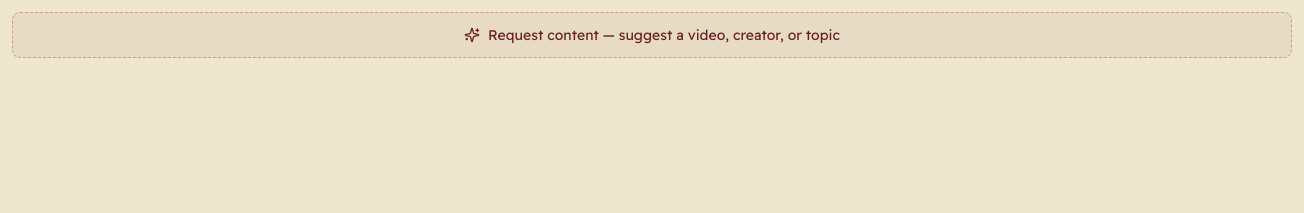
Test: saying what kind of request it is › changes what it asks for with the kind
Step 1. Click the button "Request content — suggest a video, creator, or topic" → (652, 35), box [12,12,1292,58]
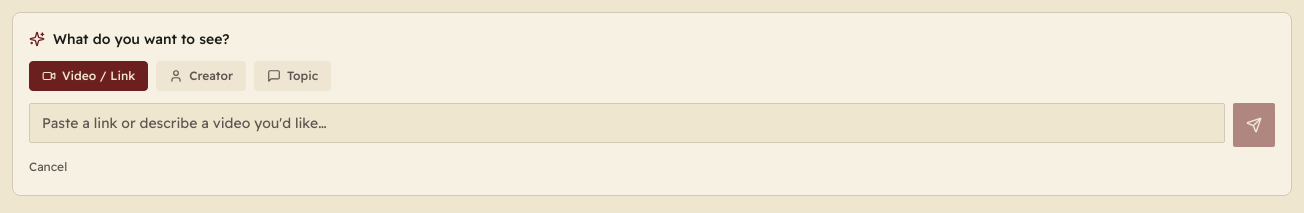
Step 2. Click the button "Creator" → (201, 76), box [156,61,246,91]
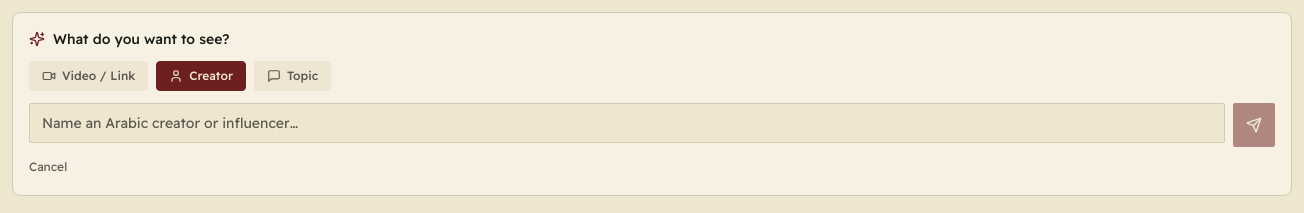
Expected: the field has attribute placeholder="Name an Arabic creator or influencer…", [29,103,1225,143]
Step 3. Click the button "Topic" → (293, 76), box [254,61,331,91]
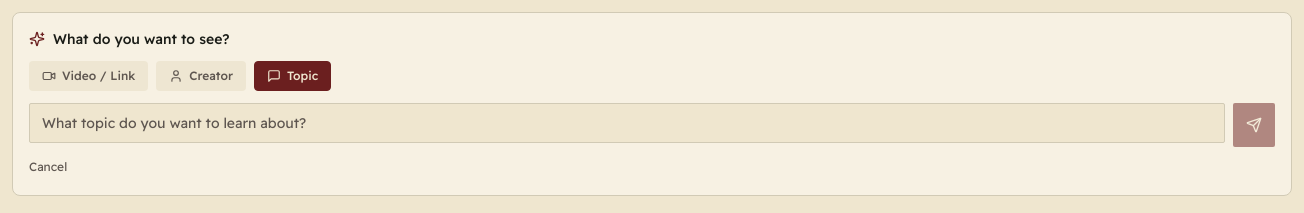
Expected: the field has attribute placeholder="What topic do you want to learn about?", [29,103,1225,143]
